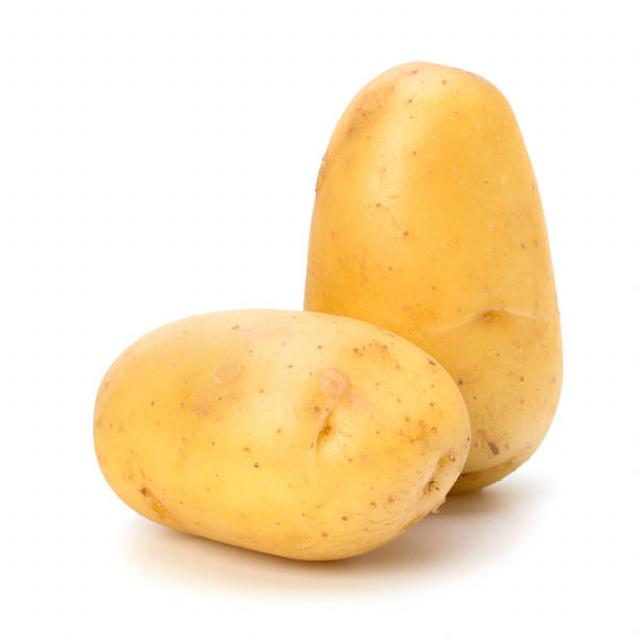Potato: (89, 302, 472, 565), (304, 50, 568, 322)
